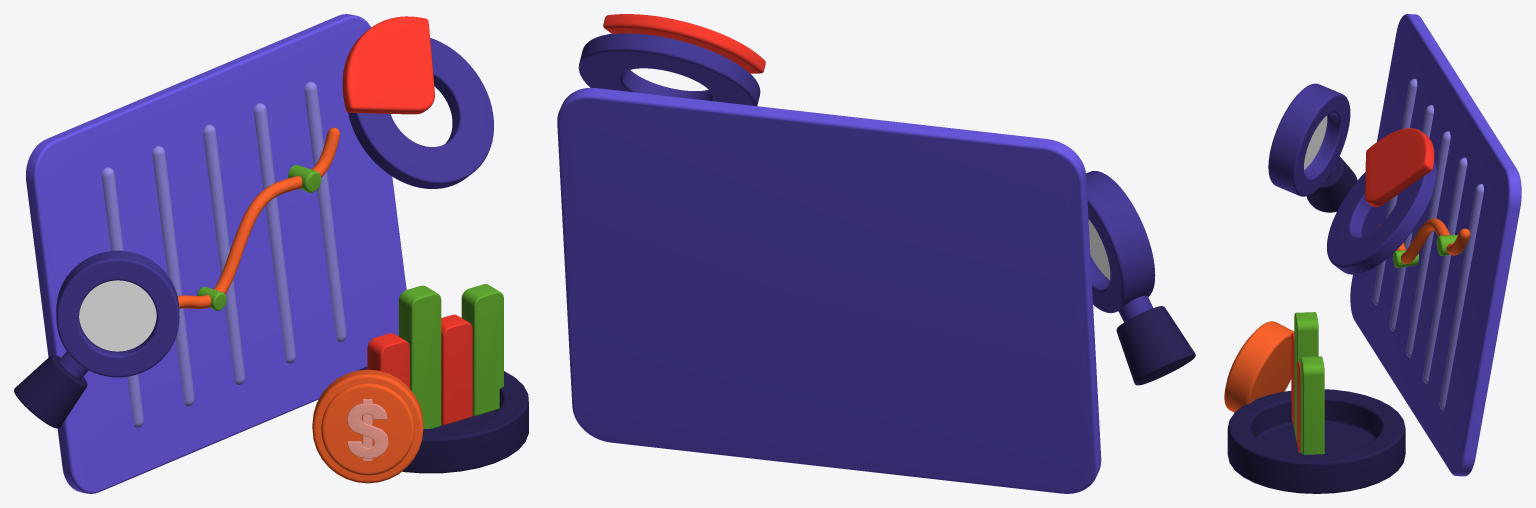
Rendered from Investing Platform.glb.
The picture shows the model from 3 angles, left to right: view 1: azimuth 30°, elevation 25°; view 2: azimuth 150°, elevation 25°; view 3: azimuth 270°, elevation 25°; orthographic projection. The views are drawn at different scales.
Visible parts, largest first — view 1: Plane.011, Cylinder.030, Cube.027, Cylinder.036, Cylinder.038, Cylinder.035, Cylinder.039, Cylinder.034, Cylinder.037, Vert.007, Text.005, Cylinder.033; view 2: Plane.011, Cylinder.038, Cylinder.036, Cylinder.037, Cylinder.039; view 3: Plane.011, Cylinder.034, Cylinder.030, Cylinder.036, Cylinder.038, Cube.027, Cylinder.035, Cylinder.039, Cylinder.037, Vert.007.
Boxes of the visible parts, <box> form: Plane.011: <box>26,14,406,493</box>; Cylinder.030: <box>101,81,346,427</box>; Cube.027: <box>367,284,503,428</box>; Cylinder.036: <box>56,250,179,377</box>; Cylinder.038: <box>348,38,493,188</box>; Cylinder.035: <box>312,369,423,483</box>; Cylinder.039: <box>342,16,434,114</box>; Cylinder.034: <box>358,366,528,473</box>; Cylinder.037: <box>14,354,87,428</box>; Vert.007: <box>177,127,340,308</box>; Text.005: <box>347,399,388,461</box>; Cylinder.033: <box>288,165,321,192</box>; Plane.011: <box>557,87,1101,493</box>; Cylinder.038: <box>578,33,760,105</box>; Cylinder.036: <box>1086,171,1155,313</box>; Cylinder.037: <box>1116,306,1195,385</box>; Cylinder.039: <box>603,14,765,73</box>; Plane.011: <box>1350,14,1521,476</box>; Cylinder.034: <box>1227,389,1405,493</box>; Cylinder.030: <box>1372,78,1483,410</box>; Cylinder.036: <box>1268,83,1350,196</box>; Cylinder.038: <box>1327,161,1436,274</box>; Cube.027: <box>1291,312,1324,454</box>; Cylinder.035: <box>1224,321,1294,412</box>; Cylinder.039: <box>1365,128,1434,207</box>; Cylinder.037: <box>1306,156,1357,212</box>; Vert.007: <box>1375,218,1470,263</box>.
Bounding box in the file's own units: 4.84 × 3.38 × 2.77.
